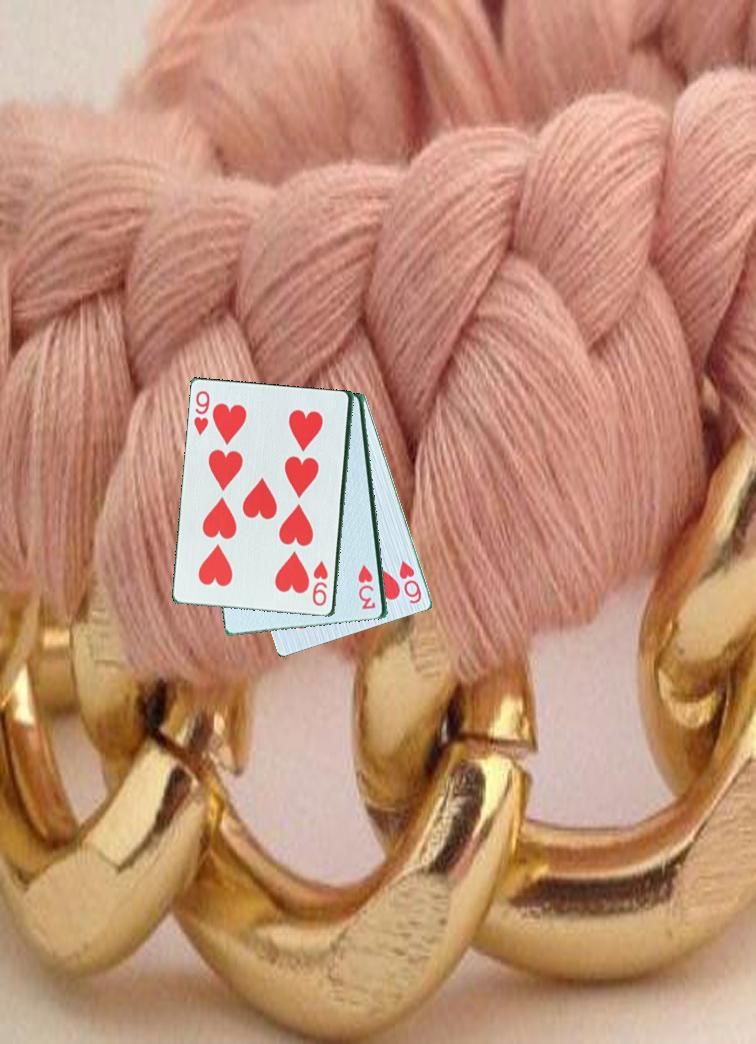3h: (357, 561, 379, 613)
6h: (396, 557, 425, 607)
9h: (190, 387, 213, 441), (309, 558, 331, 609)
